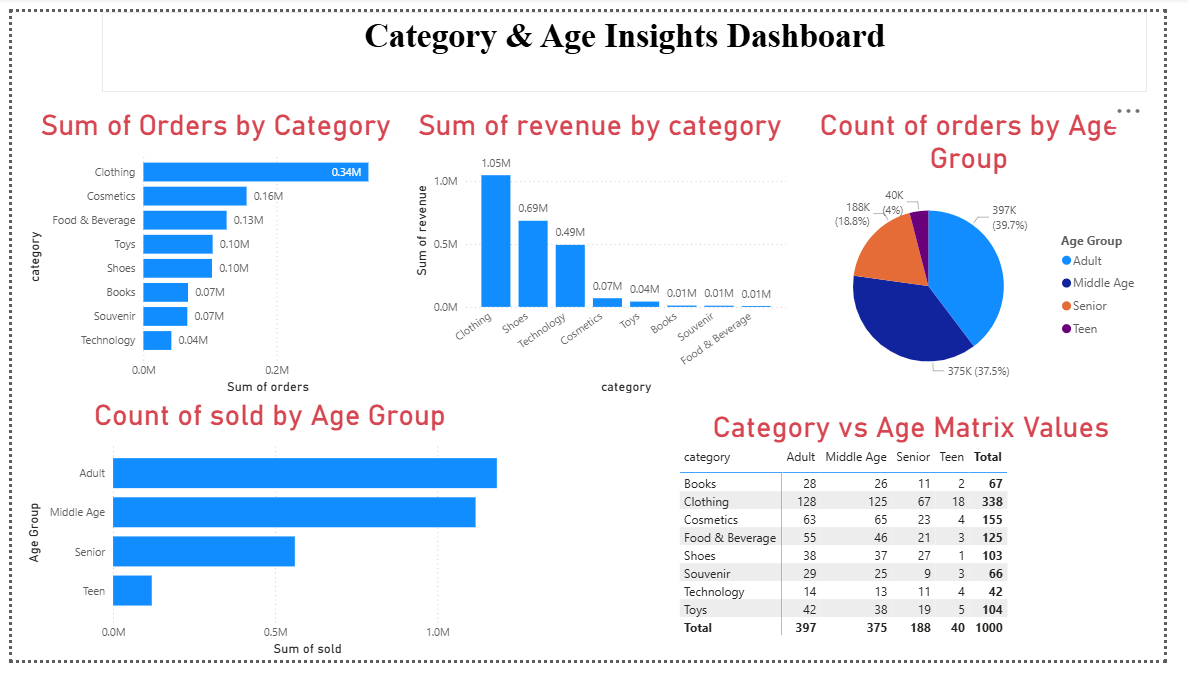

This screenshot's page, from the dashboard's own definition file:
{"tool":"powerbi","page":{"name":"Page 2","canvas":[1280,720],"ordinal":1},"visuals":[{"type":"clusteredBarChart","title":"Sum of Orders by Category","fields":{"Category":["project1.category"],"Y":["Sum(project1.orders)"]},"box":[11.7,106.7,430,321.7],"z":0},{"type":"clusteredColumnChart","fields":{"Category":["project1.category"],"Y":["Sum(project1.revenue)"]},"box":[441.7,106.7,423.3,321.7],"z":1000},{"type":"pieChart","title":"Count of orders by Age Group","fields":{"Category":["project1.Age Group"],"Y":["Sum(project1.orders)"]},"box":[865,106.7,396.7,321.7],"z":2000},{"type":"clusteredBarChart","title":"Count  of sold by Age Group","fields":{"Category":["project1.Age Group"],"Y":["Sum(project1.sold)"]},"box":[10,428.3,553.3,291.7],"z":3000},{"type":"pivotTable","title":"Category vs Age Matrix Values","fields":{"Rows":["project1.category"],"Columns":["project1.Age Group"],"Values":["CountNonNull(project1.orders)"]},"box":[736.7,441.7,525,278.3],"z":4000},{"type":"textbox","box":[100,0,1161.7,88.3],"z":4002}]}

Visuals, with their boxes in screenshot pixels (x1, y1, x2, y2), scaled from the page's 1280x720 canvas onto the 1188x674 screenshot:
"Sum of Orders by Category" clusteredBarChart: box(11, 100, 410, 401)
clusteredColumnChart - project1.category x Sum(project1.revenue): box(410, 100, 803, 401)
"Count of orders by Age Group" pieChart: box(803, 100, 1171, 401)
"Count  of sold by Age Group" clusteredBarChart: box(9, 401, 523, 673)
"Category vs Age Matrix Values" pivotTable: box(684, 413, 1171, 673)
textbox: box(93, 0, 1171, 83)
